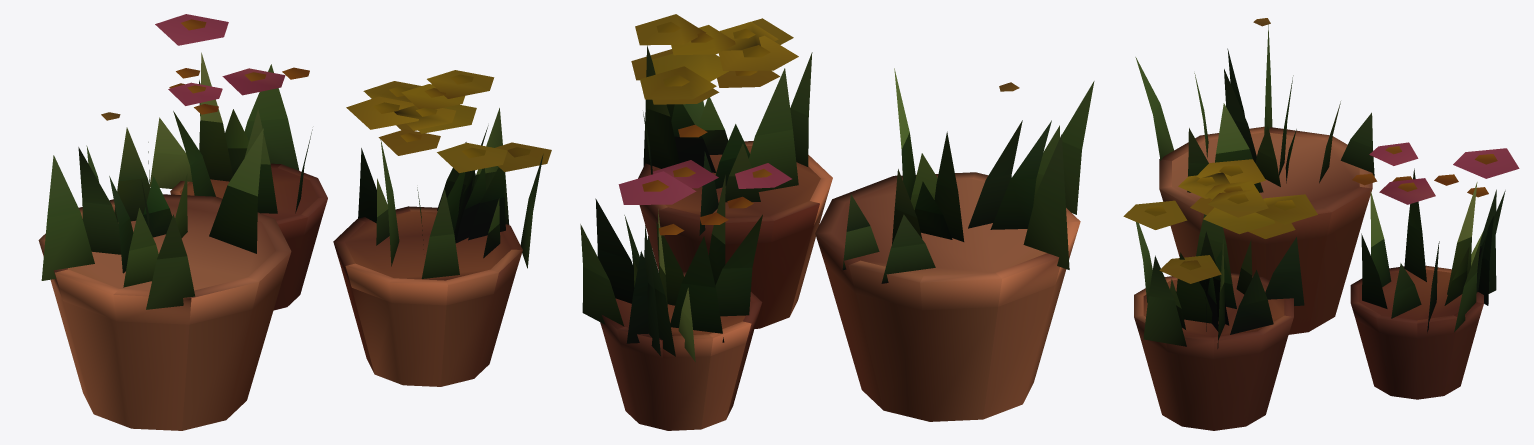
The model's file is macetas.glb.
3 views of the same model, side by side, from view 1: azimuth 30°, elevation 25°; view 2: azimuth 150°, elevation 25°; view 3: azimuth 270°, elevation 25° (orthographic). The views are drawn at different scales.
Visible parts, largest first — view 1: macetas_piezas, macetas_vegetacion; view 2: macetas_piezas, macetas_vegetacion; view 3: macetas_piezas, macetas_vegetacion.
Boxes of the visible parts, x1=… form: macetas_piezas: x1=38, y1=163, x2=522, y2=430; macetas_vegetacion: x1=41, y1=14, x2=551, y2=309; macetas_piezas: x1=600, y1=141, x2=1080, y2=430; macetas_vegetacion: x1=580, y1=14, x2=1094, y2=361; macetas_piezas: x1=1134, y1=126, x2=1483, y2=430; macetas_vegetacion: x1=1123, y1=18, x2=1519, y2=348.
Bounding box in the file's own units: 1.1 × 0.6683 × 0.9153.
